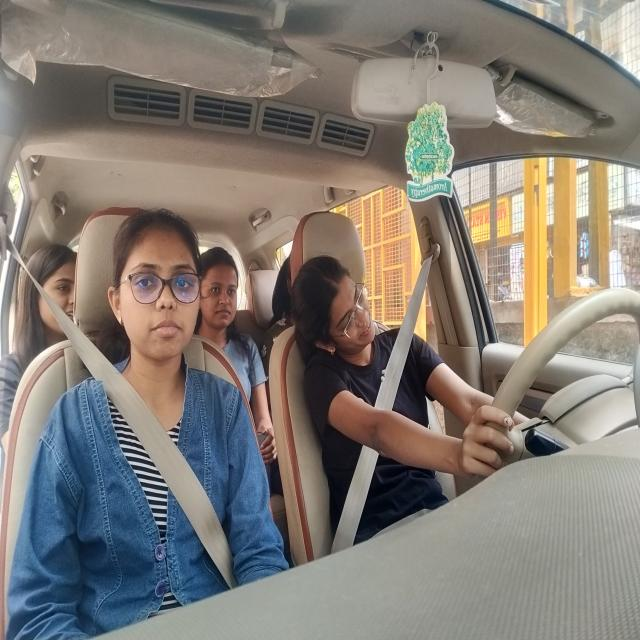drowsy: (292, 253, 384, 360)
person: (110, 202, 206, 361), (21, 246, 80, 336), (199, 239, 240, 330)
